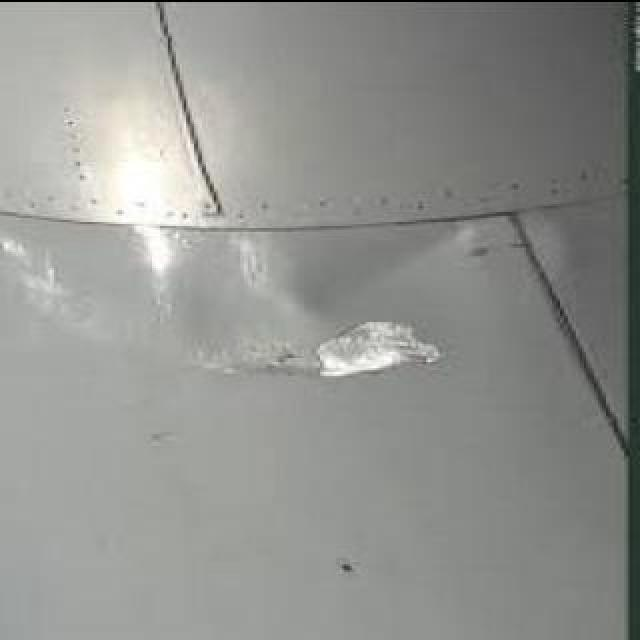dent: (188, 311, 452, 379)
